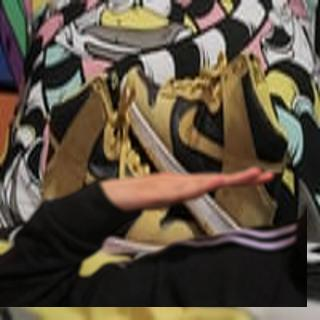Wait: (101, 155, 276, 214)
